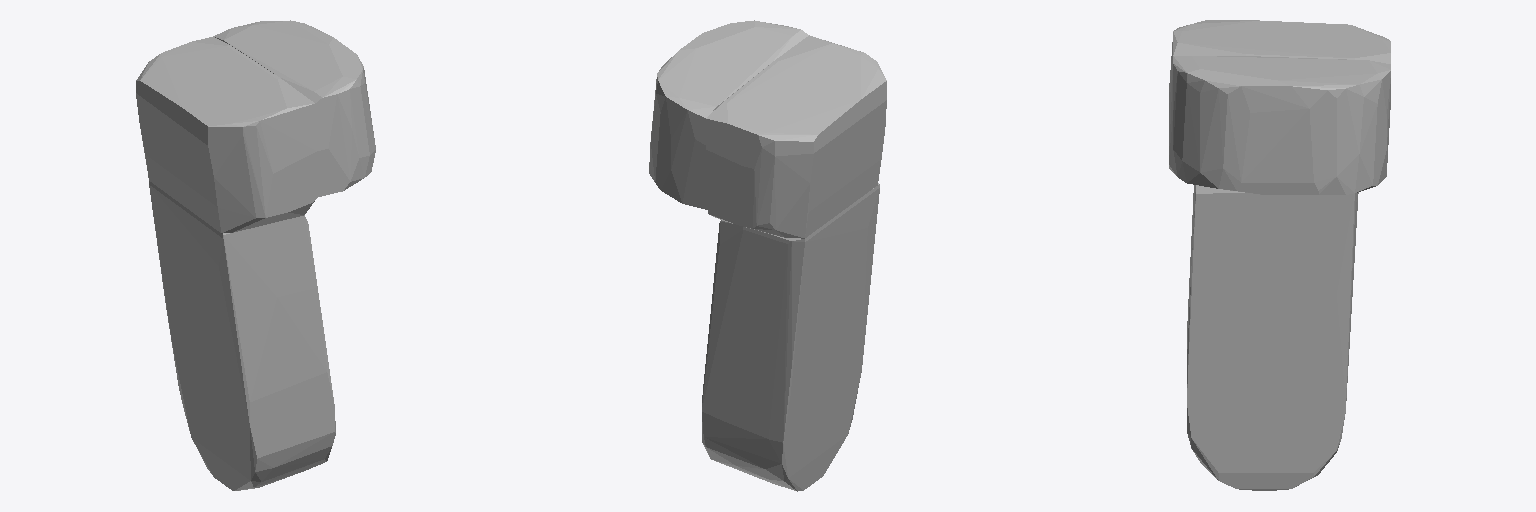
The robot description file, URDF, robot "root":
<robot name="root">
  <link name="link_thingiverse~part_5468690_convex_piece_0">
    <inertial>
      <origin rpy="0 0 0" xyz="0 0 0"/>
      <mass value="2.47E-01"/>
      <inertia ixx="3.88E-04" ixy="-1.36E-07" ixz="-6.17E-08" iyy="3.72E-04" iyz="1.39E-05" izz="4.95E-05"/>
    </inertial>
    <visual>
      <origin rpy="0 0 0" xyz="0 0 0"/>
      <geometry>
        <mesh filename="thingiverse~part_5468690_convex_piece_0.obj" scale="1.0000E+00 1.0000E+00 1.0000E+00"/>
      </geometry>
      <material name="">
        <color rgba="7.50E-01 7.50E-01 7.50E-01 1"/>
      </material>
    </visual>
    <collision>
      <origin rpy="0 0 0" xyz="0 0 0"/>
      <geometry>
        <mesh filename="thingiverse~part_5468690_convex_piece_0.obj" scale="1.0000E+00 1.0000E+00 1.0000E+00"/>
      </geometry>
    </collision>
  </link>
  <link name="link_thingiverse~part_5468690_convex_piece_1">
    <inertial>
      <origin rpy="0 0 0" xyz="0 0 0"/>
      <mass value="1.40E-01"/>
      <inertia ixx="1.38E-04" ixy="-1.05E-06" ixz="-2.70E-05" iyy="1.22E-04" iyz="3.29E-06" izz="4.79E-05"/>
    </inertial>
    <visual>
      <origin rpy="0 0 0" xyz="0 0 0"/>
      <geometry>
        <mesh filename="thingiverse~part_5468690_convex_piece_1.obj" scale="1.0000E+00 1.0000E+00 1.0000E+00"/>
      </geometry>
      <material name="">
        <color rgba="7.50E-01 7.50E-01 7.50E-01 1"/>
      </material>
    </visual>
    <collision>
      <origin rpy="0 0 0" xyz="0 0 0"/>
      <geometry>
        <mesh filename="thingiverse~part_5468690_convex_piece_1.obj" scale="1.0000E+00 1.0000E+00 1.0000E+00"/>
      </geometry>
    </collision>
  </link>
  <joint name="link_thingiverse~part_5468690_convex_piece_1_joint" type="fixed">
    <origin rpy="0 0 0" xyz="0 0 0"/>
    <parent link="link_thingiverse~part_5468690_convex_piece_0"/>
    <child link="link_thingiverse~part_5468690_convex_piece_1"/>
  </joint>
  <link name="link_thingiverse~part_5468690_convex_piece_2">
    <inertial>
      <origin rpy="0 0 0" xyz="0 0 0"/>
      <mass value="1.05E-01"/>
      <inertia ixx="1.25E-04" ixy="2.29E-06" ixz="5.30E-05" iyy="1.37E-04" iyz="3.43E-06" izz="5.69E-05"/>
    </inertial>
    <visual>
      <origin rpy="0 0 0" xyz="0 0 0"/>
      <geometry>
        <mesh filename="thingiverse~part_5468690_convex_piece_2.obj" scale="1.0000E+00 1.0000E+00 1.0000E+00"/>
      </geometry>
      <material name="">
        <color rgba="7.50E-01 7.50E-01 7.50E-01 1"/>
      </material>
    </visual>
    <collision>
      <origin rpy="0 0 0" xyz="0 0 0"/>
      <geometry>
        <mesh filename="thingiverse~part_5468690_convex_piece_2.obj" scale="1.0000E+00 1.0000E+00 1.0000E+00"/>
      </geometry>
    </collision>
  </link>
  <joint name="link_thingiverse~part_5468690_convex_piece_2_joint" type="fixed">
    <origin rpy="0 0 0" xyz="0 0 0"/>
    <parent link="link_thingiverse~part_5468690_convex_piece_1"/>
    <child link="link_thingiverse~part_5468690_convex_piece_2"/>
  </joint>
</robot>

--- Render facts (derived) ---
The picture shows the robot from 3 angles, left to right: view 1: azimuth 30°, elevation 25°; view 2: azimuth 150°, elevation 25°; view 3: azimuth 270°, elevation 25°; orthographic projection.
Model root with 3 links and 2 joints (2 fixed), rooted at link_thingiverse~part_5468690_convex_piece_0, posed all joints at 0.
Links seen in each view (by area): view 1: link_thingiverse~part_5468690_convex_piece_0, link_thingiverse~part_5468690_convex_piece_1, link_thingiverse~part_5468690_convex_piece_2; view 2: link_thingiverse~part_5468690_convex_piece_0, link_thingiverse~part_5468690_convex_piece_1, link_thingiverse~part_5468690_convex_piece_2; view 3: link_thingiverse~part_5468690_convex_piece_0, link_thingiverse~part_5468690_convex_piece_2, link_thingiverse~part_5468690_convex_piece_1.
Link boxes in pixels (x1,y1,x2,y2): link_thingiverse~part_5468690_convex_piece_0: (149, 181, 335, 490); link_thingiverse~part_5468690_convex_piece_1: (136, 37, 316, 233); link_thingiverse~part_5468690_convex_piece_2: (213, 20, 375, 197); link_thingiverse~part_5468690_convex_piece_0: (702, 183, 879, 491); link_thingiverse~part_5468690_convex_piece_1: (706, 35, 886, 238); link_thingiverse~part_5468690_convex_piece_2: (649, 20, 808, 209); link_thingiverse~part_5468690_convex_piece_0: (1187, 185, 1358, 490); link_thingiverse~part_5468690_convex_piece_2: (1169, 56, 1390, 194); link_thingiverse~part_5468690_convex_piece_1: (1169, 20, 1390, 96).
Bounding box of the posed robot: 0.0546 × 0.0558 × 0.1206 m (x, y, z).
3 mesh visuals loaded from 3 distinct referenced files (3 OBJ).
